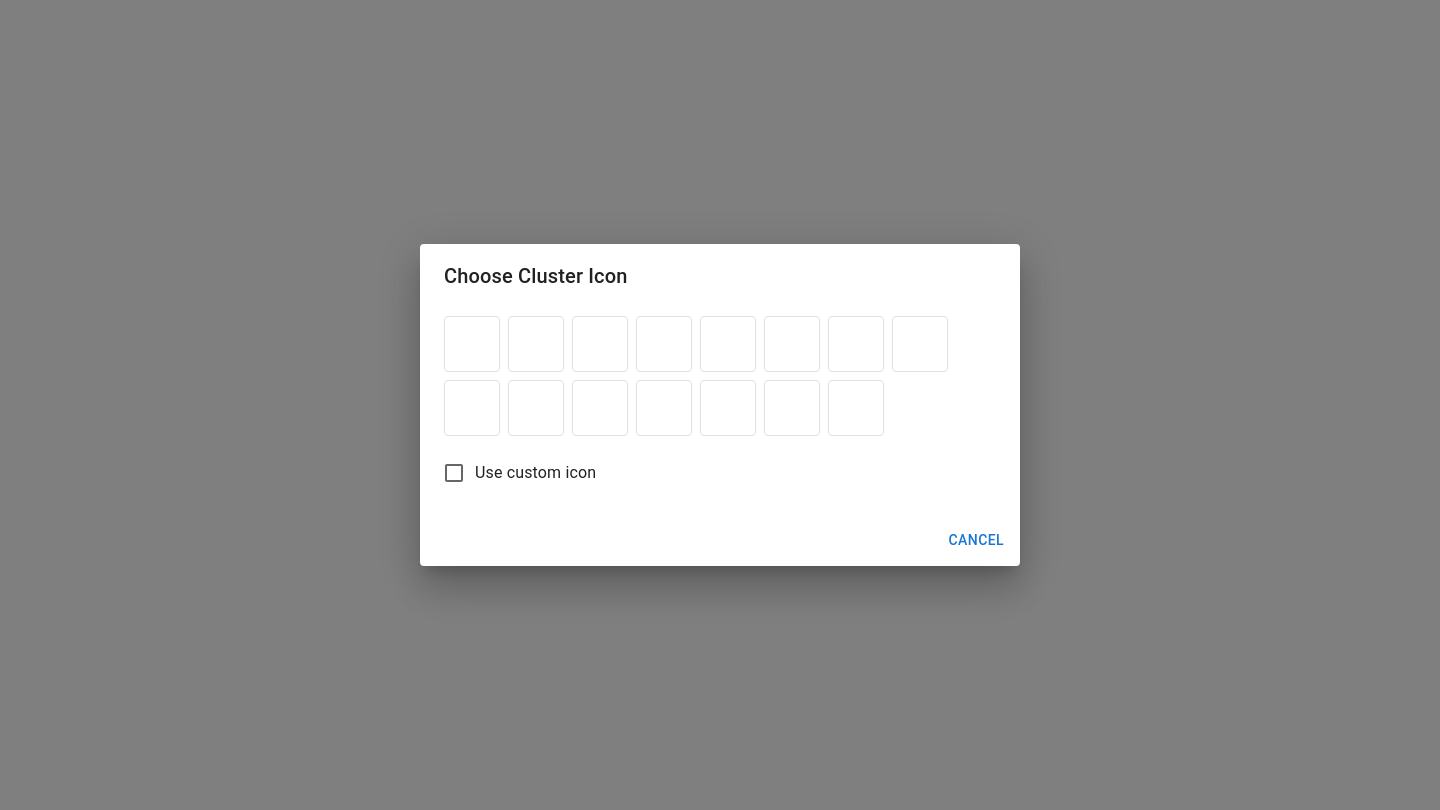
Test: IconPicker Component › Apply button becomes enabled when custom input has value
Click the checkbox labelled "Use custom icon".
click(519, 473)  # box [442,461,596,485]
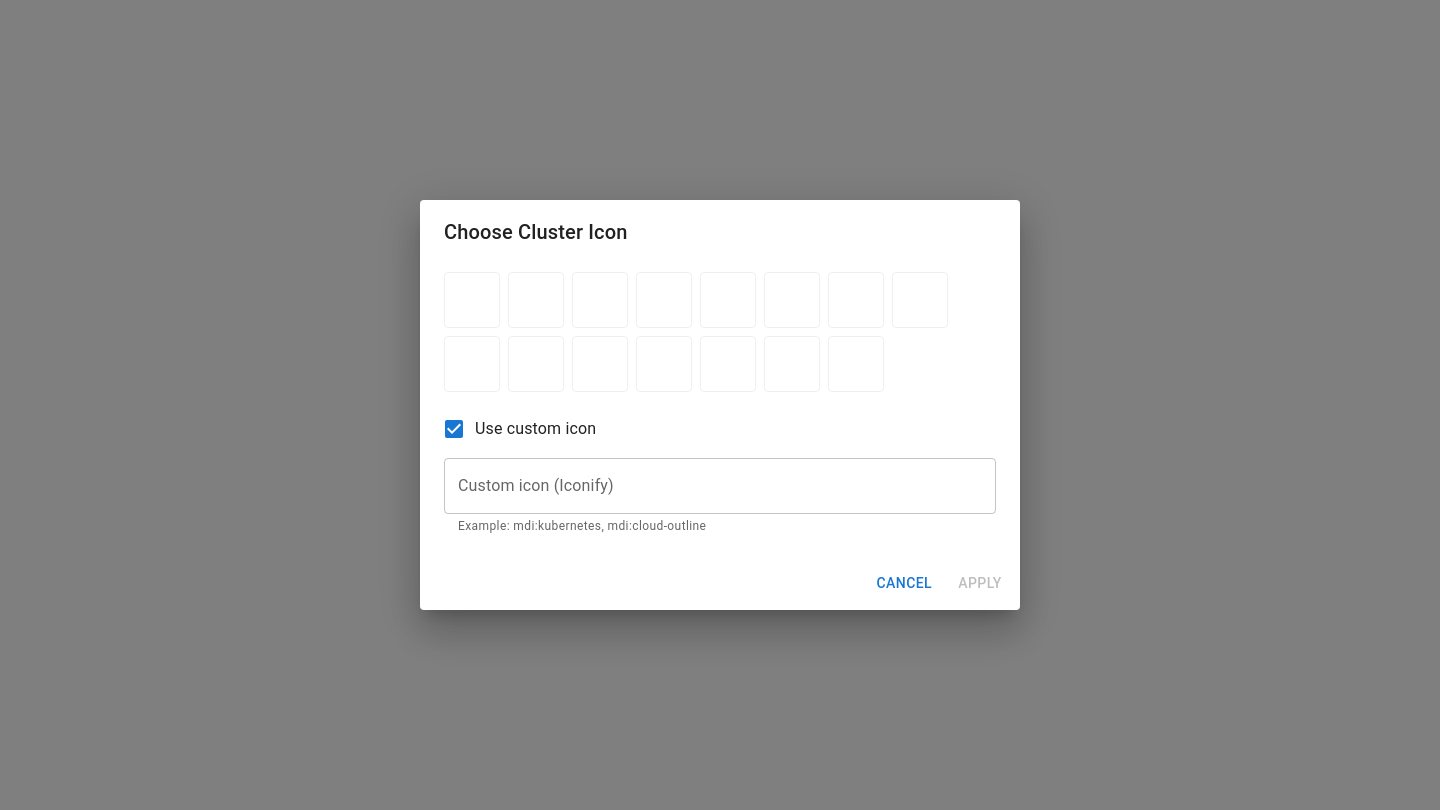
Type "mdi:cloud-outline" into the field labelled "Custom icon (Iconify)".
click(720, 486); type("mdi:cloud-outline")  # box [444,458,996,514]
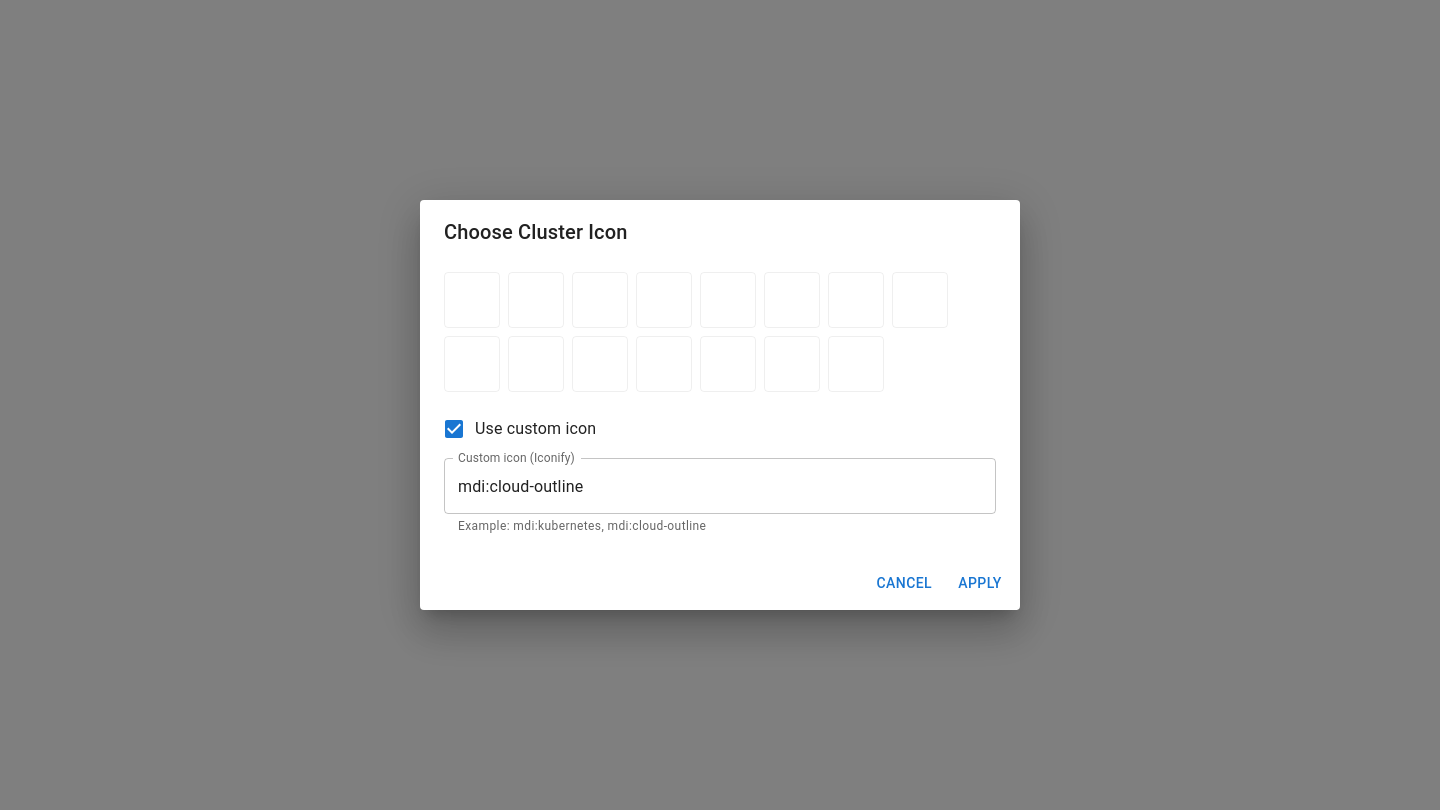
Expected: the button "Apply" is enabled, [948,565,1012,602]
